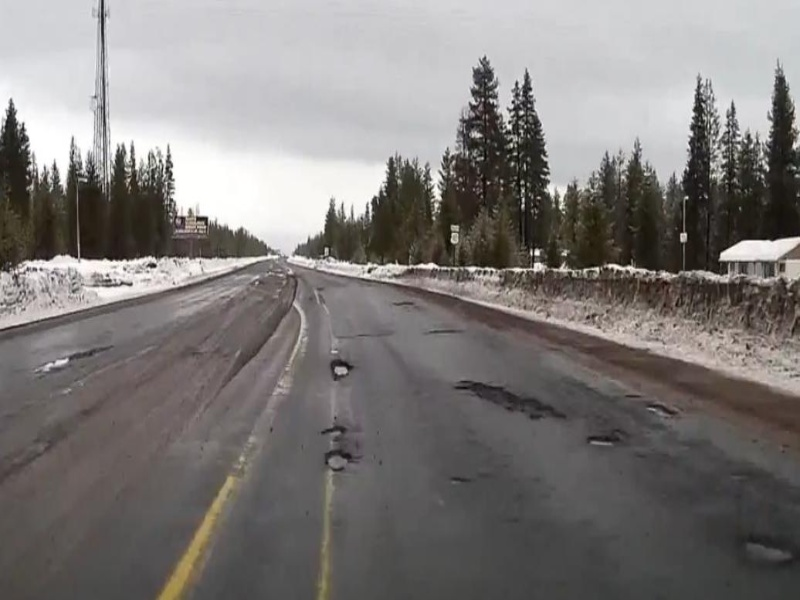pothole: (316, 451, 355, 470), (330, 356, 356, 384), (580, 435, 633, 447), (320, 427, 349, 440)
